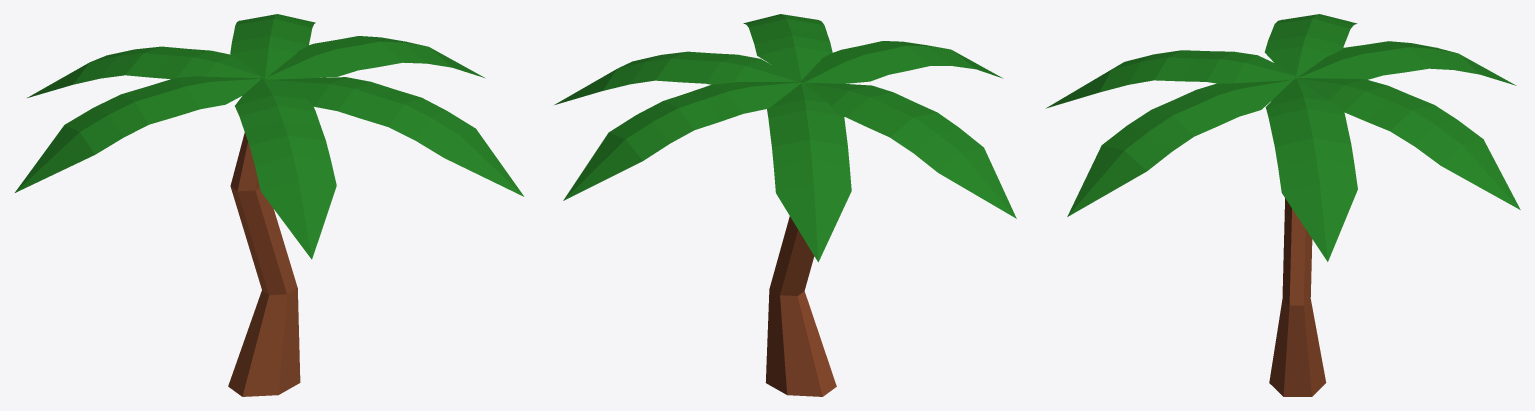
The model's file is Palm Tree.fbx.
The picture shows the model from 3 angles, left to right: view 1: azimuth 30°, elevation 25°; view 2: azimuth 150°, elevation 25°; view 3: azimuth 270°, elevation 25°; orthographic projection.
Parts seen in each view (by area): view 1: Cylinder, Root, Cylinder.001, Cylinder.004, Cylinder.002, Cylinder.005, Cylinder.003; view 2: Cylinder.005, Cylinder.004, Cylinder.003, Root, Cylinder.002, Cylinder, Cylinder.001; view 3: Cylinder.002, Cylinder.001, Cylinder.003, Root, Cylinder, Cylinder.005, Cylinder.004.
Boxes of the visible parts, bbox=[...] form: Cylinder: bbox=[235, 77, 336, 259]; Root: bbox=[228, 132, 300, 396]; Cylinder.001: bbox=[270, 77, 524, 196]; Cylinder.004: bbox=[15, 76, 268, 192]; Cylinder.002: bbox=[267, 36, 485, 79]; Cylinder.005: bbox=[27, 46, 269, 97]; Cylinder.003: bbox=[230, 14, 315, 78]; Cylinder.005: bbox=[767, 81, 851, 262]; Cylinder.004: bbox=[800, 81, 1016, 218]; Cylinder.003: bbox=[563, 82, 802, 200]; Root: bbox=[765, 216, 836, 396]; Cylinder.002: bbox=[554, 51, 800, 104]; Cylinder: bbox=[801, 41, 1003, 84]; Cylinder.001: bbox=[743, 14, 832, 80]; Cylinder.002: bbox=[1265, 79, 1357, 261]; Cylinder.001: bbox=[1067, 80, 1291, 216]; Cylinder.003: bbox=[1294, 77, 1520, 209]; Root: bbox=[1269, 198, 1326, 396]; Cylinder: bbox=[1046, 50, 1299, 108]; Cylinder.005: bbox=[1292, 41, 1516, 85]; Cylinder.004: bbox=[1264, 14, 1357, 79].
Size of the model in its own units: 718 by 456 by 631.
